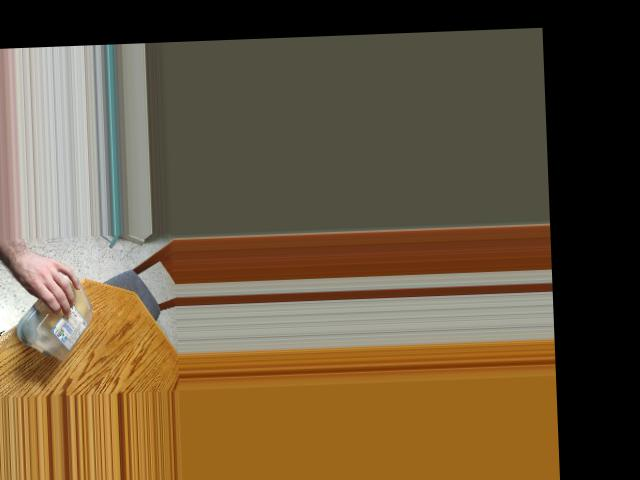cheese: (16, 266, 94, 361)
